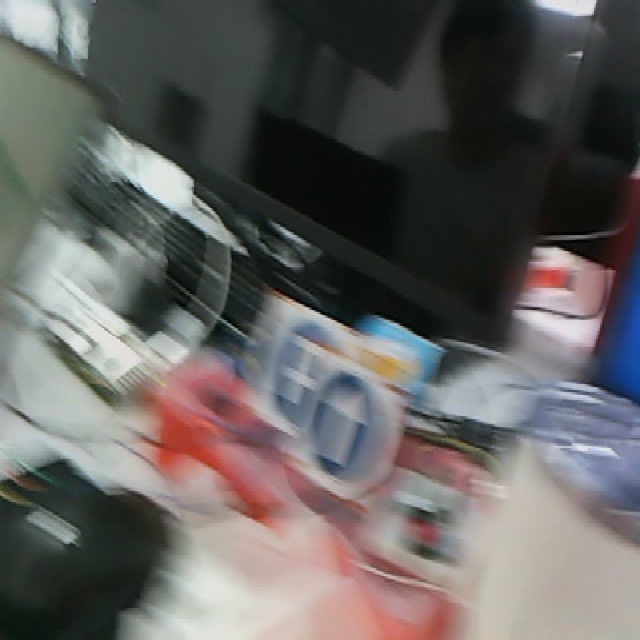parking: (251, 301, 358, 423)
straight: (298, 361, 408, 497)
